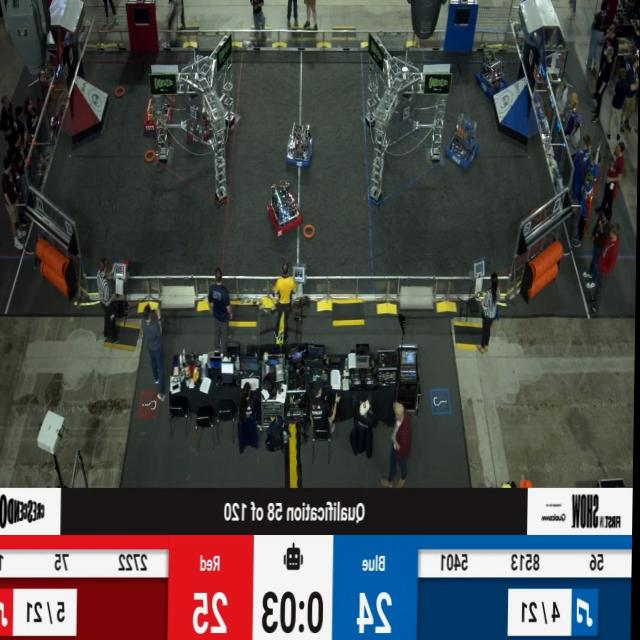Robot: (263, 175, 304, 236), (446, 110, 482, 176), (137, 78, 177, 134), (183, 88, 212, 157), (473, 45, 505, 100), (285, 118, 317, 168)
